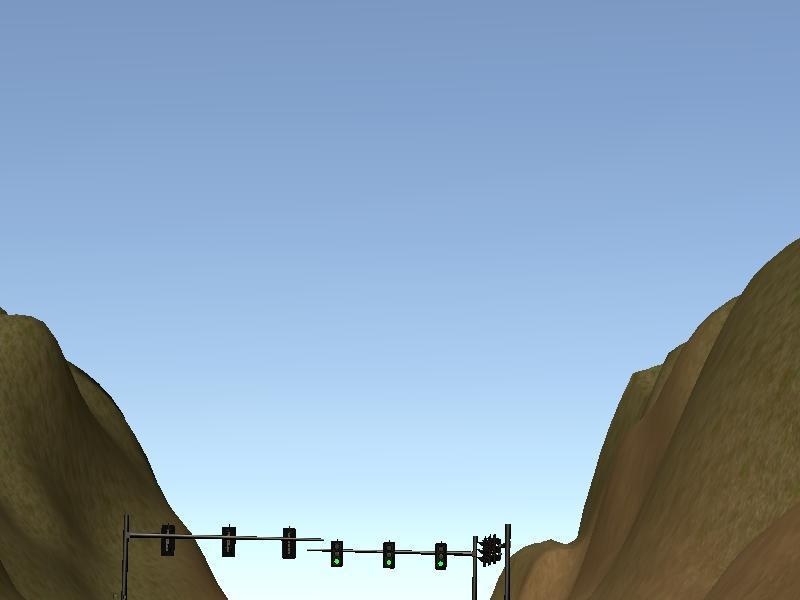Green: (382, 540, 394, 568), (435, 543, 447, 571), (331, 541, 343, 569)
